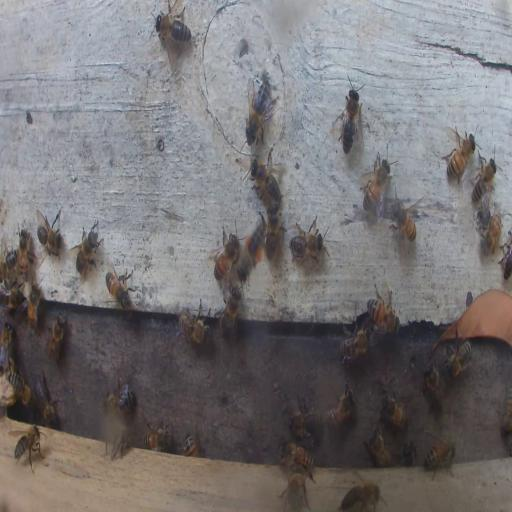bee: (334, 77, 365, 153), (361, 150, 393, 216), (237, 215, 267, 284), (244, 79, 276, 143), (444, 126, 478, 184), (72, 217, 103, 280), (154, 4, 191, 53), (288, 216, 325, 262), (248, 153, 282, 203), (35, 207, 64, 259), (390, 195, 420, 245), (211, 228, 239, 280), (178, 302, 211, 346), (471, 154, 497, 209), (14, 425, 42, 472), (327, 384, 355, 429), (423, 438, 455, 477), (288, 398, 318, 439), (263, 203, 284, 261), (105, 266, 133, 309), (342, 480, 383, 508), (367, 299, 399, 334), (104, 378, 135, 414), (340, 326, 370, 363), (281, 473, 309, 511), (366, 426, 391, 468), (277, 442, 313, 471), (380, 389, 406, 429), (47, 313, 68, 361), (6, 364, 31, 404), (480, 210, 502, 255), (443, 342, 472, 376), (36, 374, 55, 425), (222, 287, 241, 337), (424, 364, 444, 408), (26, 280, 42, 331), (16, 227, 32, 277), (499, 382, 512, 442), (143, 424, 171, 450), (108, 433, 136, 456), (0, 285, 23, 310), (2, 246, 17, 282), (1, 321, 13, 365), (502, 231, 512, 280), (400, 441, 418, 467), (182, 432, 200, 456)
